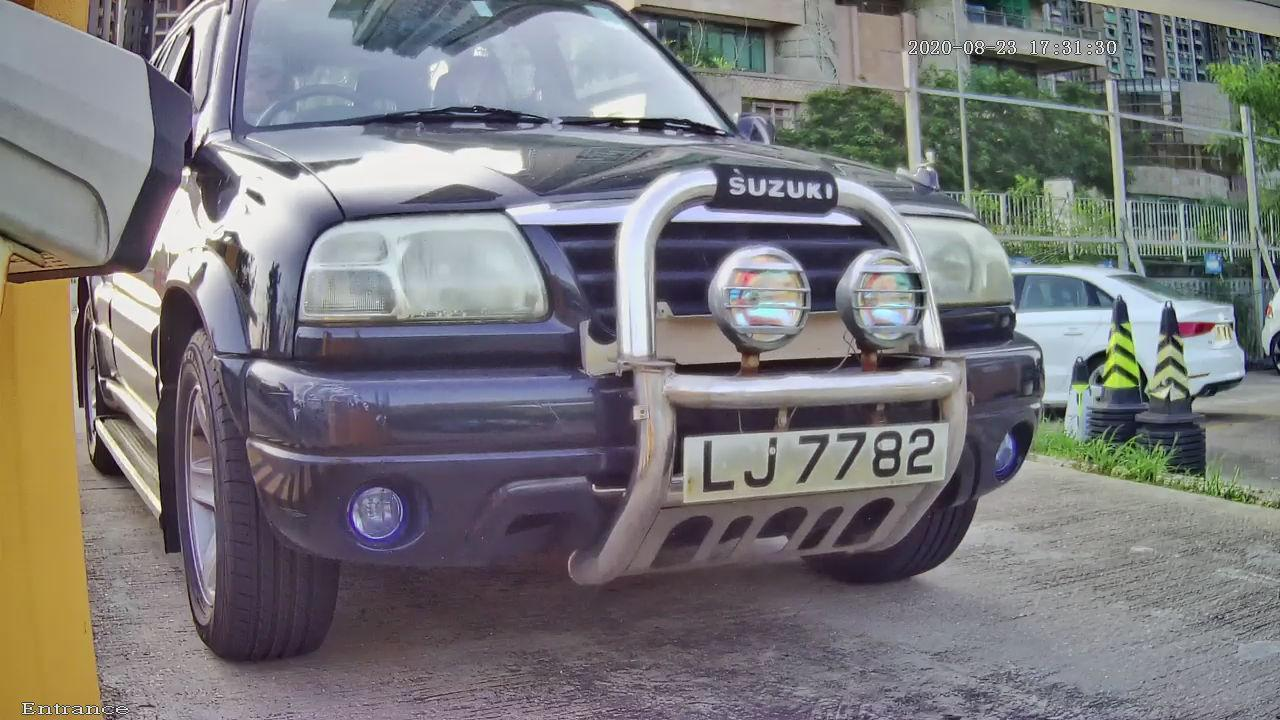Car: (69, 1, 1069, 676)
License Plate: (635, 374, 998, 549)
